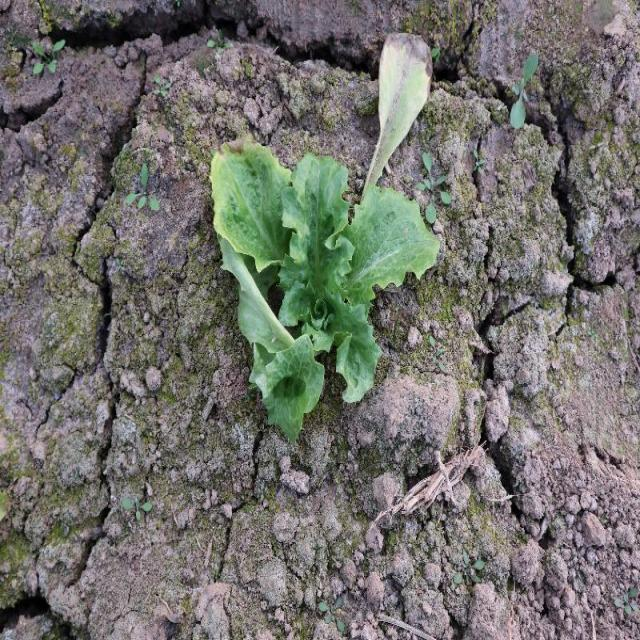crop: (209, 139, 442, 438)
